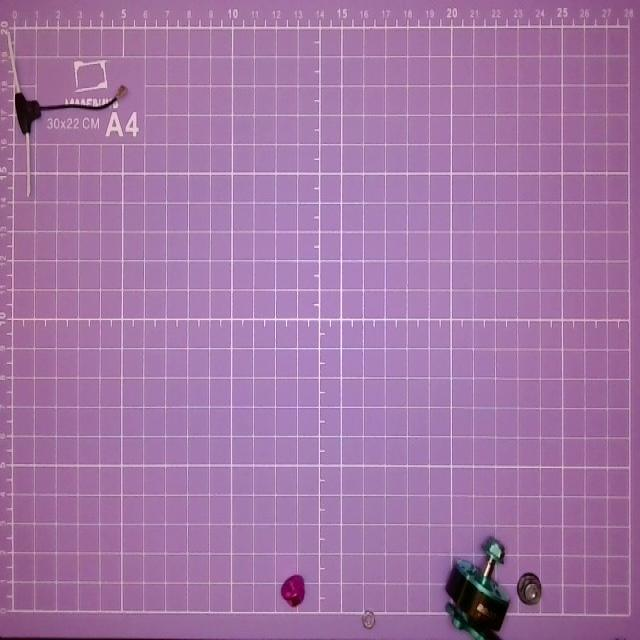antenna: (0, 25, 134, 193)
motor: (444, 530, 510, 640)
screw_M3: (357, 606, 379, 635)
screw_M5: (278, 564, 310, 610), (514, 573, 544, 605)
